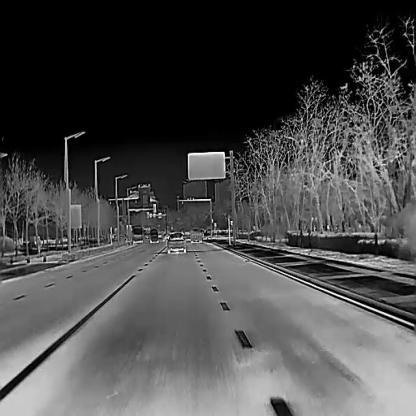car: (166, 231, 186, 252), (131, 223, 143, 243), (190, 226, 203, 243), (149, 226, 158, 241)
